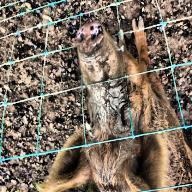boar: (36, 15, 192, 192)
